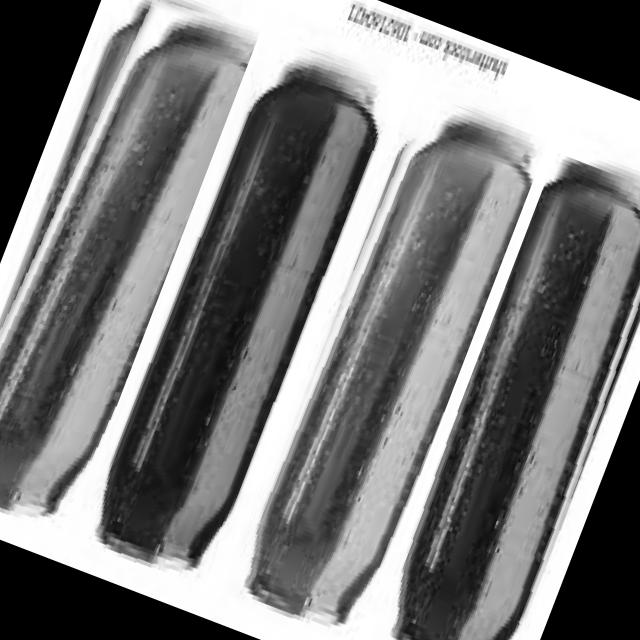Cans: (69, 27, 402, 592), (216, 87, 548, 640), (0, 0, 261, 538), (363, 151, 640, 640)
